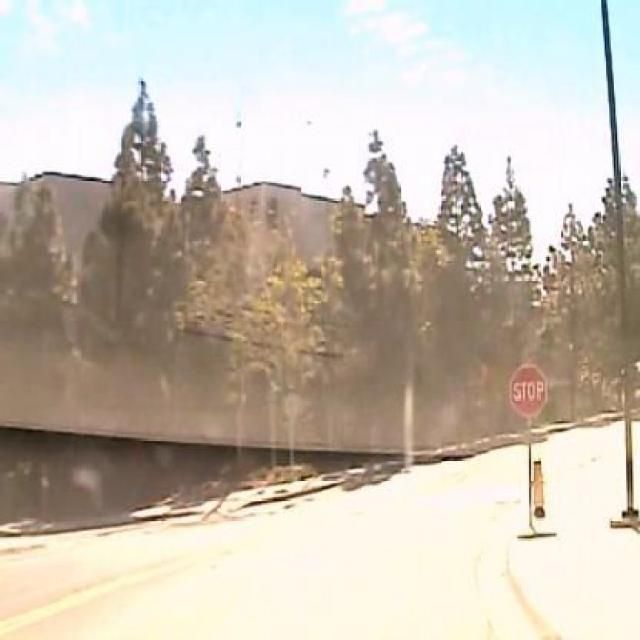Stop: (507, 363, 550, 419)
